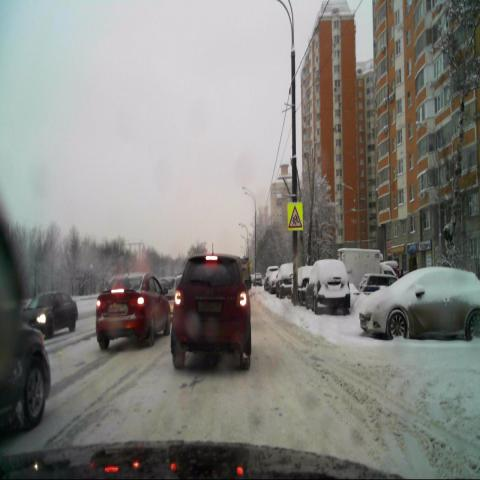1_23: (287, 202, 303, 231)
